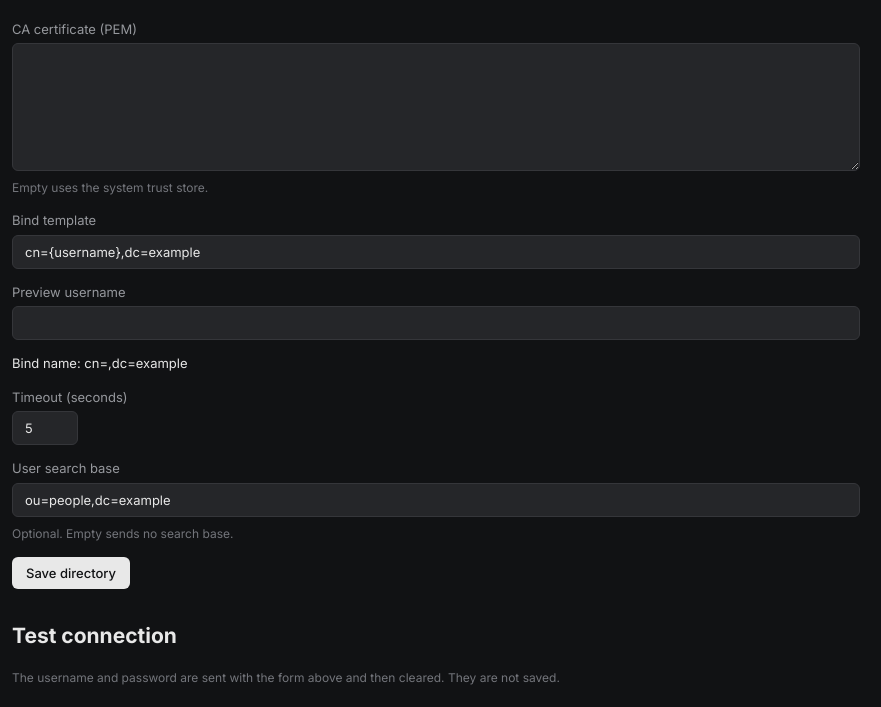
Test: DirectoryPage › previews the bind name for a typed username
(page scrolled)
Type "a*b" into the field labelled "Preview username" at point(436, 323), box 12,306 -> 860,340
(page scrolled)
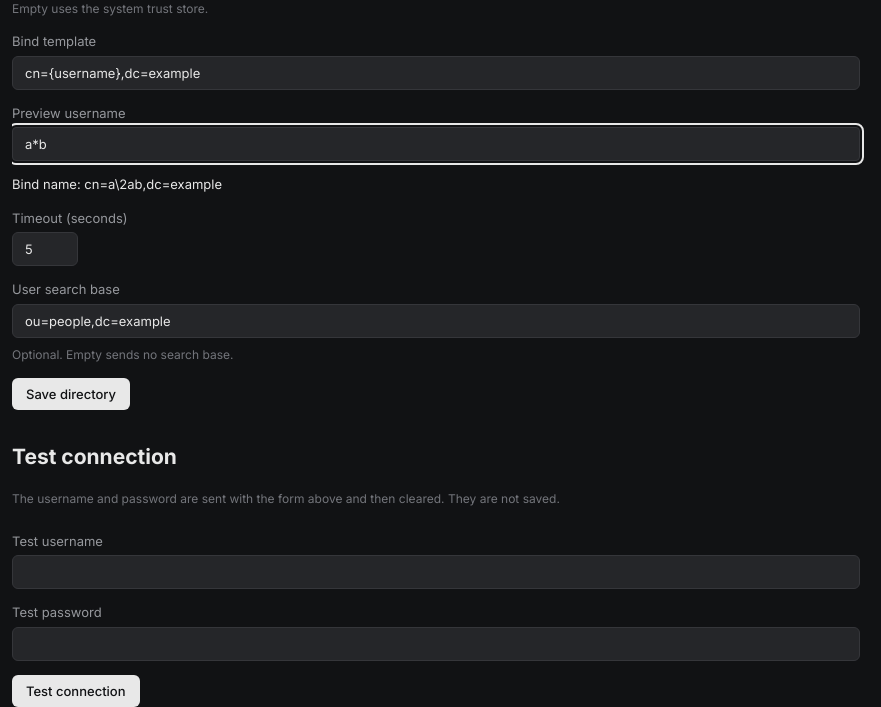
Expected: the field labelled "Test username" is empty, 12,555 -> 860,589
Result: the form named "Directory configuration" shows "Bind name: cn=a\\2ab,dc=example" at 12,176 -> 222,192
